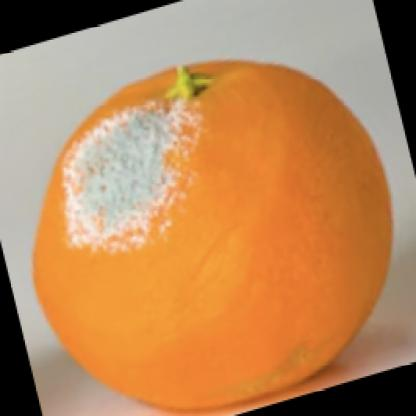rotten_orange: (21, 46, 397, 415)
